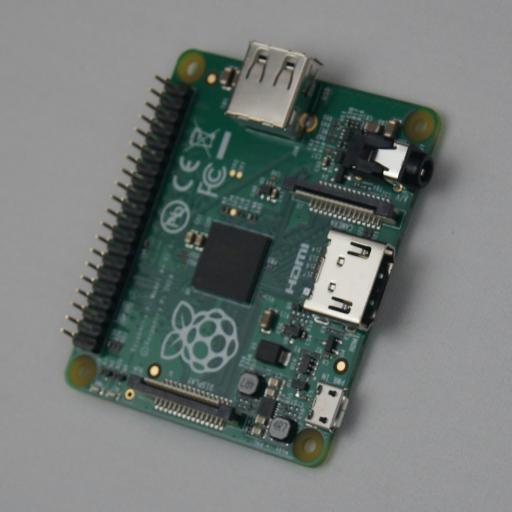Raspberry Pi A-: (63, 43, 451, 468)
